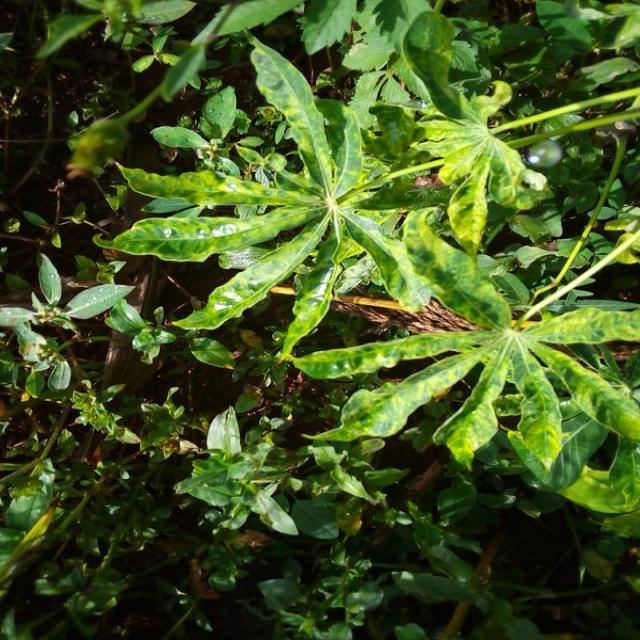cassava leaf: (98, 9, 639, 522)
